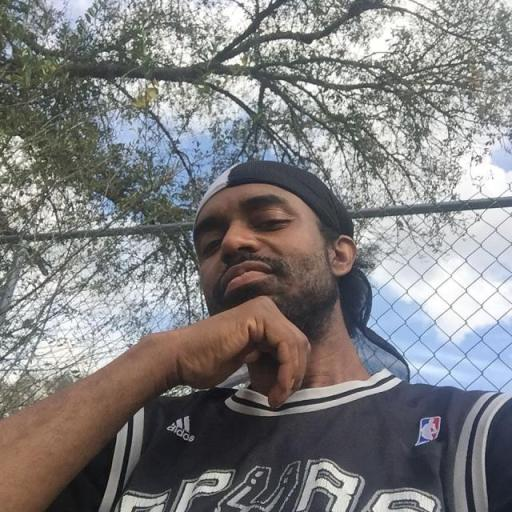Adidas: (162, 412, 197, 445)
